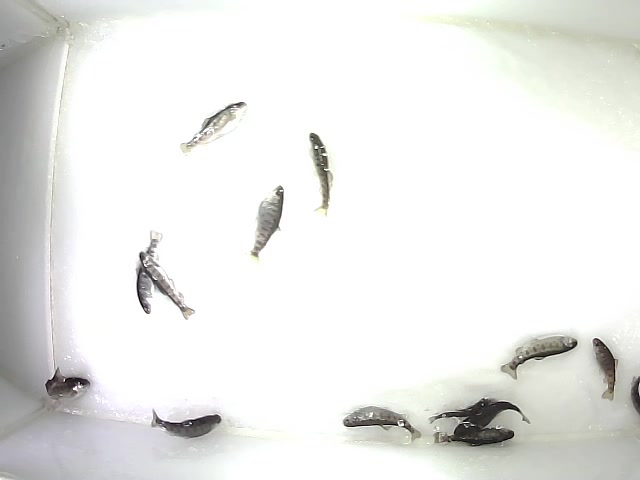fish: (177, 99, 250, 158), (138, 249, 196, 321), (499, 335, 579, 383), (453, 401, 532, 443), (343, 404, 424, 444), (245, 184, 285, 264), (149, 406, 223, 441), (136, 229, 164, 315), (306, 131, 332, 219), (428, 396, 497, 424), (591, 336, 619, 403), (43, 366, 92, 402), (432, 428, 515, 448)
